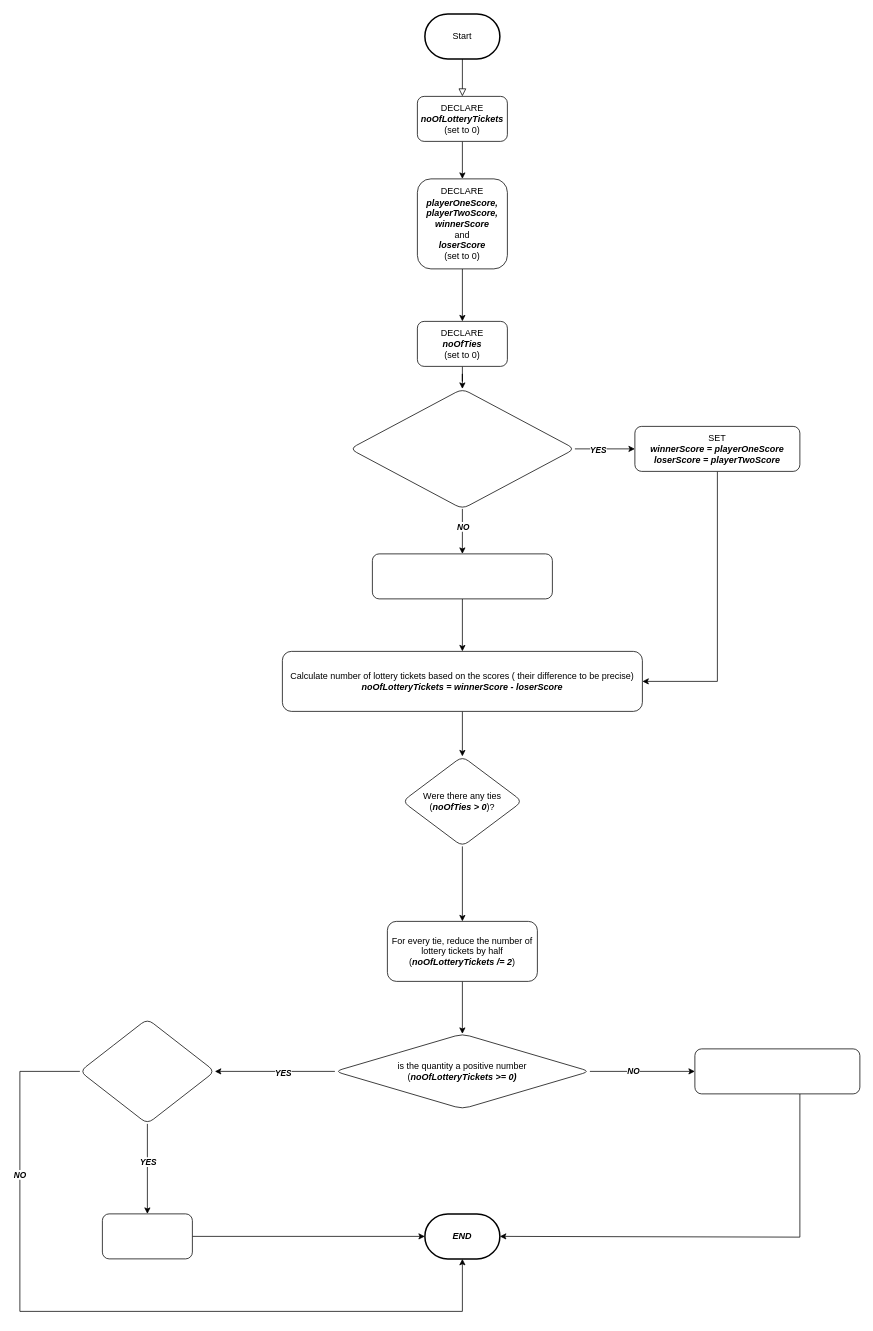
This 873x1331 diagram has some shape labels left out. Here are the shapes that lost their labels. From the top down, the box of each, then its label:
(349, 388, 575, 509): Was playerOne the winner ( playerOneScore > playerTwoScore )?
(372, 553, 552, 599): SET winnerScore = playerTwoScore loserScore = playerOneScore
(79, 1018, 215, 1124): Does the quantity ( numberOfLotteryTickets ) have a decimal value?
(694, 1048, 860, 1094): SET numberOfLotteryTickets = 0
(102, 1213, 192, 1259): Round the number to the nearest whole number
